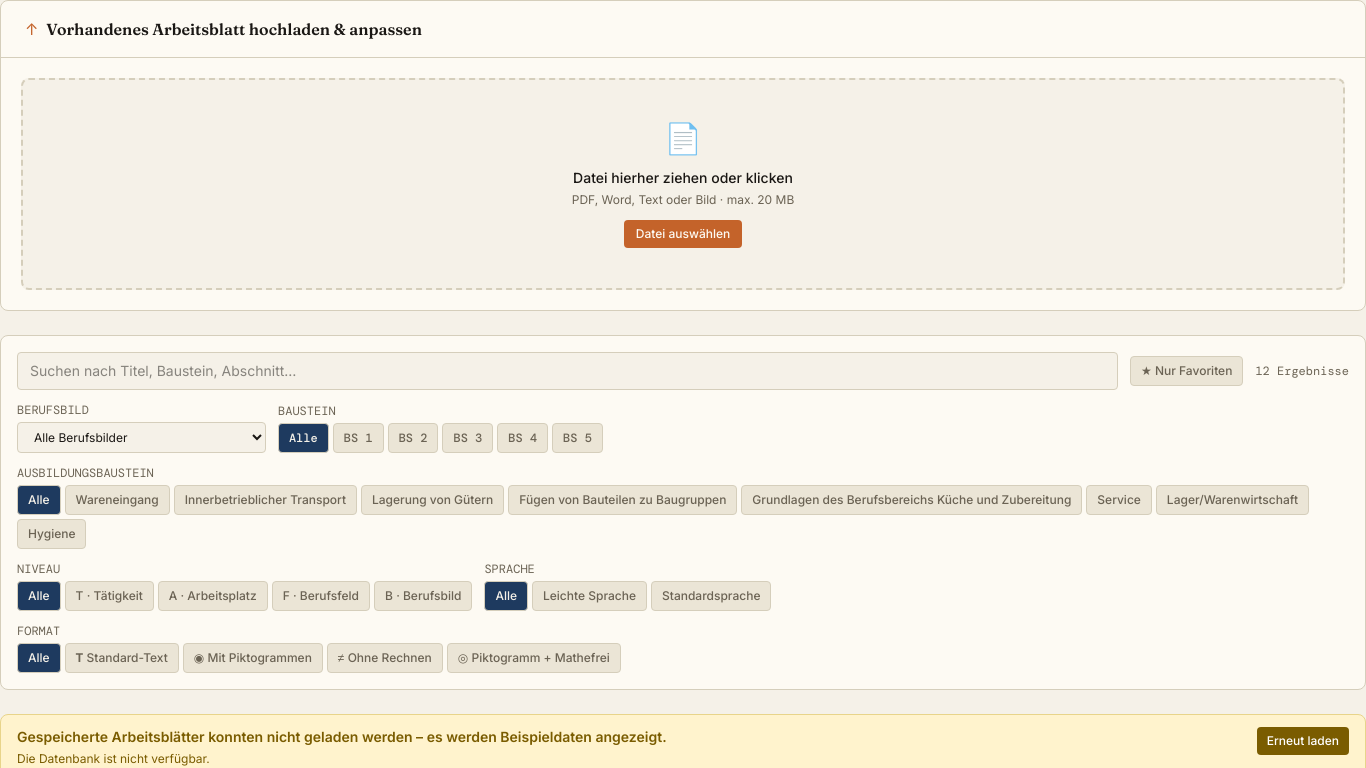
Test case: Arbeitsblätter aus dem Backend › fällt bei Fehler auf Beispieldaten zurück und lädt auf Knopfdruck neu
Expected: the message shows "Die Datenbank ist nicht verfügbar.", [17,751,210,766]
Click the button "Erneut laden" at (1303, 741), box [1257,727,1349,755]
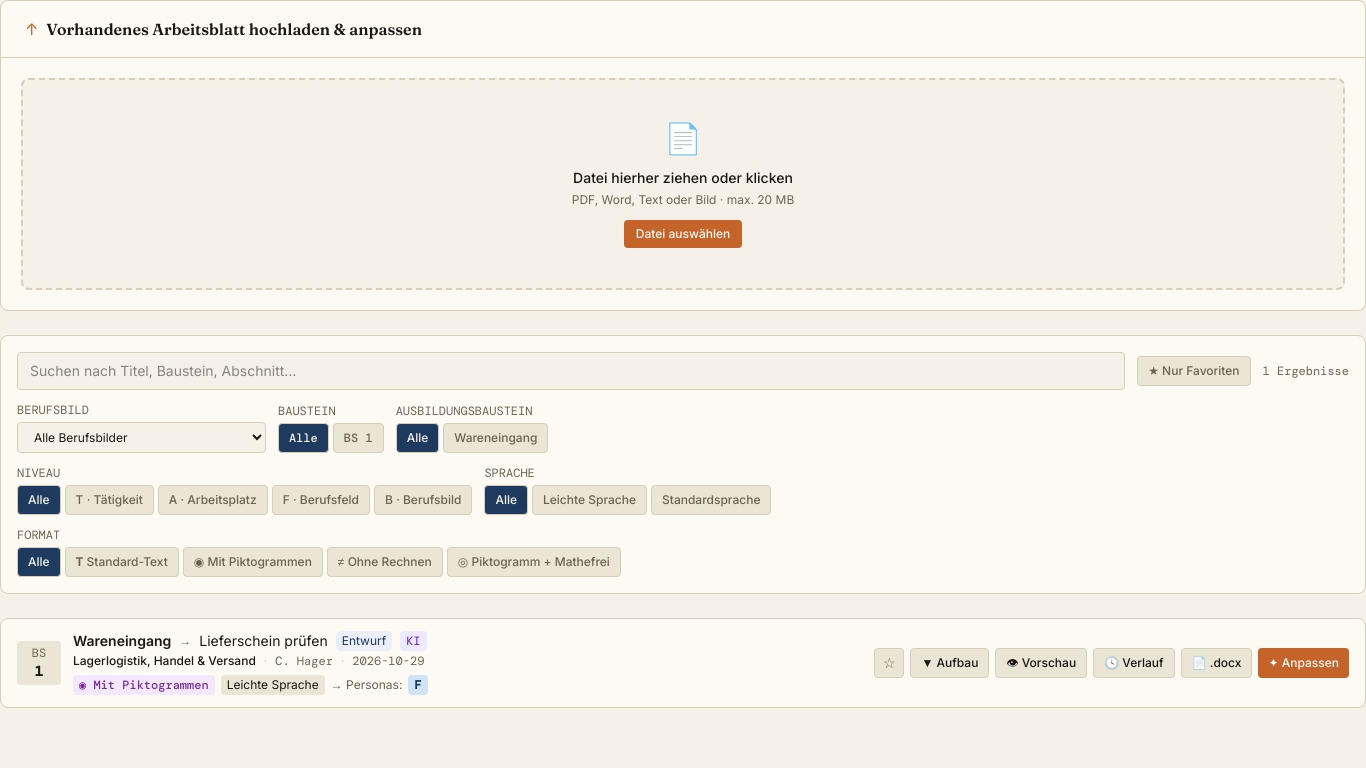
Expected: the element "Lieferschein prüfen" is shown, [0,618,1365,708]
